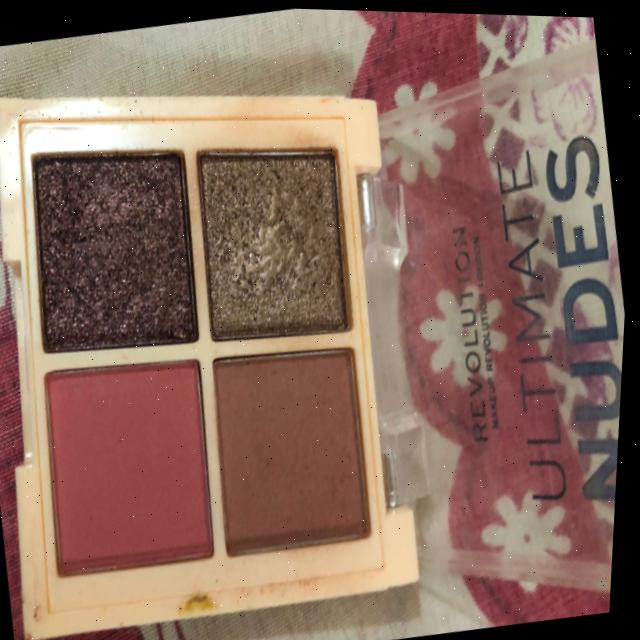blush: (28, 336, 241, 581)
bronzer: (192, 325, 398, 565)
eye shade: (12, 116, 227, 382), (168, 108, 374, 355)
